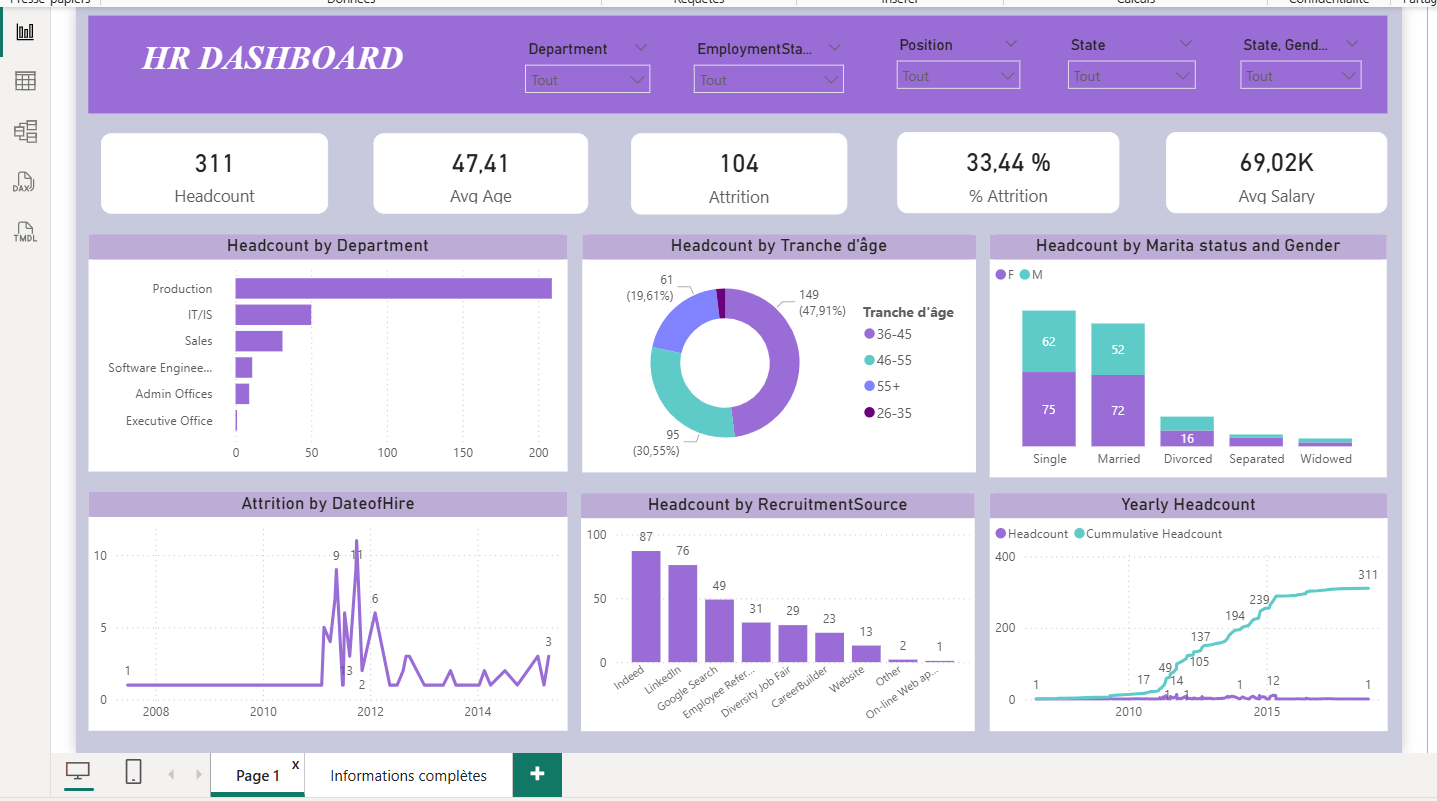

Layout of this report page (visuals, bound fields, positions):
{"tool":"powerbi","page":{"name":"Page 1","canvas":[1280,720],"ordinal":0},"visuals":[{"type":"shape","box":[12.1,8.4,1253.5,94.1],"z":0},{"type":"card","fields":{"Values":["Measure.Headcount"]},"box":[24.1,121.9,219.6,77.2],"z":1000},{"type":"card","fields":{"Values":["Measure.Nbre de départ employés"]},"box":[535.2,122.1,208.6,78.2],"z":2000},{"type":"card","fields":{"Values":["Measure.% départ employés"]},"box":[792.6,120.6,214.7,78.4],"z":3000},{"type":"card","fields":{"Values":["Measure.Salaire moyen"]},"box":[1052,120.6,213.5,78.4],"z":4000},{"type":"card","fields":{"Values":["Measure.Moyenne d'âge"]},"box":[287.1,121.9,207.5,77.2],"z":5000},{"type":"clusteredBarChart","title":"Headcount by Department","fields":{"Category":["HRDataset_v14.Department"],"Y":["Measure.Nbre de personne"]},"box":[12.5,219.4,462.4,229.1],"z":6000},{"type":"donutChart","title":"Headcount by Tranche d''âge","fields":{"Category":["HRDataset_v14.Age Bucket"],"Y":["Measure.Nbre de personne"]},"box":[488.6,219.6,380,229.2],"z":7000},{"type":"columnChart","title":"Headcount by Marita status and Gender","fields":{"Category":["HRDataset_v14.MaritalDesc"],"Y":["Measure.Nbre de personnel"],"Series":["HRDataset_v14.Gender"]},"box":[881.8,219.4,383.3,234.7],"z":8000},{"type":"lineChart","title":"Yearly Headcount","fields":{"Category":["HRDataset_v14.DateofHire"],"Y":["Measure.Headcount","Measure.Cummulative Headcount"]},"box":[881.9,469.3,383.6,229.2],"z":9000},{"type":"lineChart","title":"Attrition by DateofHire","fields":{"Y":["Measure.Attrition"],"Category":["HRDataset_v14.DateofHire"]},"box":[12.5,468,462.4,230.5],"z":10000},{"type":"columnChart","title":"Headcount by RecruitmentSource","fields":{"Category":["HRDataset_v14.RecruitmentSource"],"Y":["Measure.Headcount"]},"box":[487.4,469.3,380,229.2],"z":11000},{"type":"slicer","fields":{"Values":["HRDataset_v14.Department"]},"box":[419.8,22.9,148.4,65.1],"z":12000},{"type":"slicer","fields":{"Values":["HRDataset_v14.Position"]},"box":[781.8,22.9,139.9,65.1],"z":13000},{"type":"slicer","fields":{"Values":["HRDataset_v14.EmploymentStatus"]},"box":[582.7,22.9,172.5,65.1],"z":14000},{"type":"slicer","fields":{"Values":["HRDataset_v14.State"]},"box":[947.1,22.9,143.6,65.1],"z":15000},{"type":"slicer","fields":{"Values":["HRDataset_v14.State","HRDataset_v14.Gender"]},"box":[1113.5,22.9,137.5,65.1],"z":16000},{"type":"textbox","box":[39.8,25.3,300.4,62.7],"z":17000}]}

Visuals, with their boxes on the page's 1280x720 design canvas (x1, y1, x2, y2). These are canvas units, not pixel positions in the 1437x801 screenshot, which may show the page scaled, cropped or inside an application window:
shape: <region>12, 8, 1266, 102</region>
card - Measure.Headcount: <region>24, 122, 244, 199</region>
card - Measure.Nbre de départ employés: <region>535, 122, 744, 200</region>
card - Measure.% départ employés: <region>793, 121, 1007, 199</region>
card - Measure.Salaire moyen: <region>1052, 121, 1266, 199</region>
card - Measure.Moyenne d'âge: <region>287, 122, 495, 199</region>
"Headcount by Department" clusteredBarChart: <region>12, 219, 475, 448</region>
"Headcount by Tranche d''âge" donutChart: <region>489, 220, 869, 449</region>
"Headcount by Marita status and Gender" columnChart: <region>882, 219, 1265, 454</region>
"Yearly Headcount" lineChart: <region>882, 469, 1266, 698</region>
"Attrition by DateofHire" lineChart: <region>12, 468, 475, 698</region>
"Headcount by RecruitmentSource" columnChart: <region>487, 469, 867, 698</region>
slicer - HRDataset_v14.Department: <region>420, 23, 568, 88</region>
slicer - HRDataset_v14.Position: <region>782, 23, 922, 88</region>
slicer - HRDataset_v14.EmploymentStatus: <region>583, 23, 755, 88</region>
slicer - HRDataset_v14.State: <region>947, 23, 1091, 88</region>
slicer - HRDataset_v14.State x HRDataset_v14.Gender: <region>1114, 23, 1251, 88</region>
textbox: <region>40, 25, 340, 88</region>
